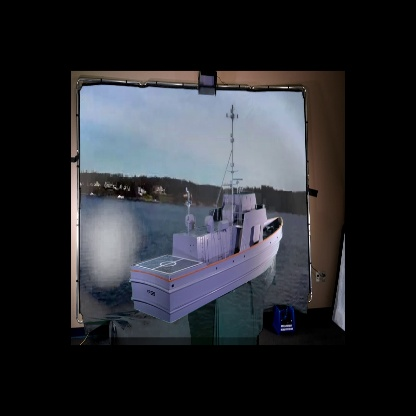YP689: (128, 103, 284, 324)
